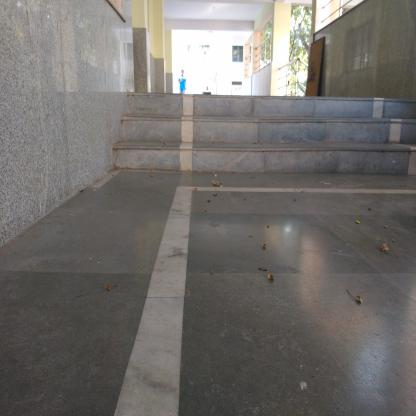stairs: (130, 93, 407, 180)
